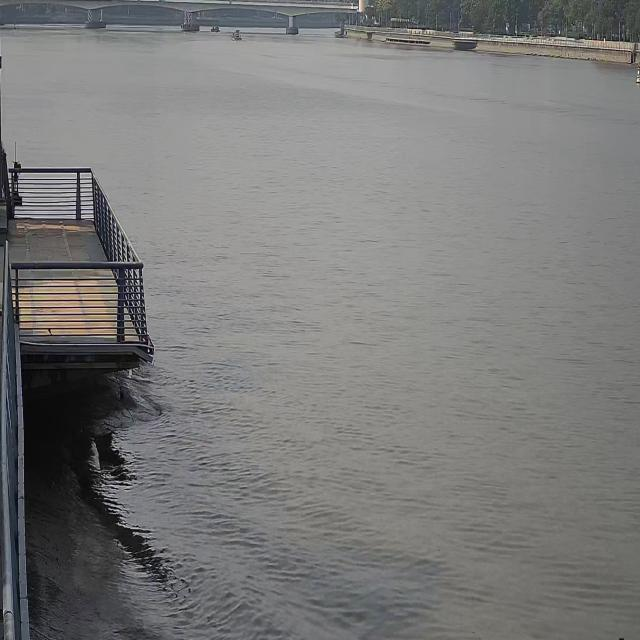ship: (231, 28, 241, 40), (210, 24, 220, 31)
